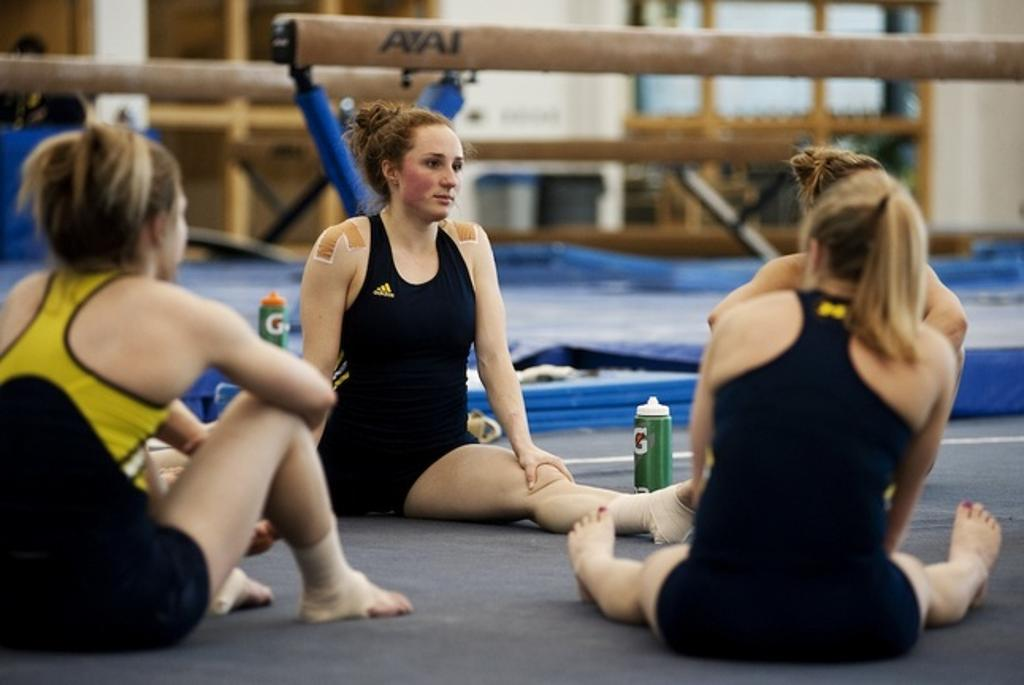face: (391, 115, 465, 219)
